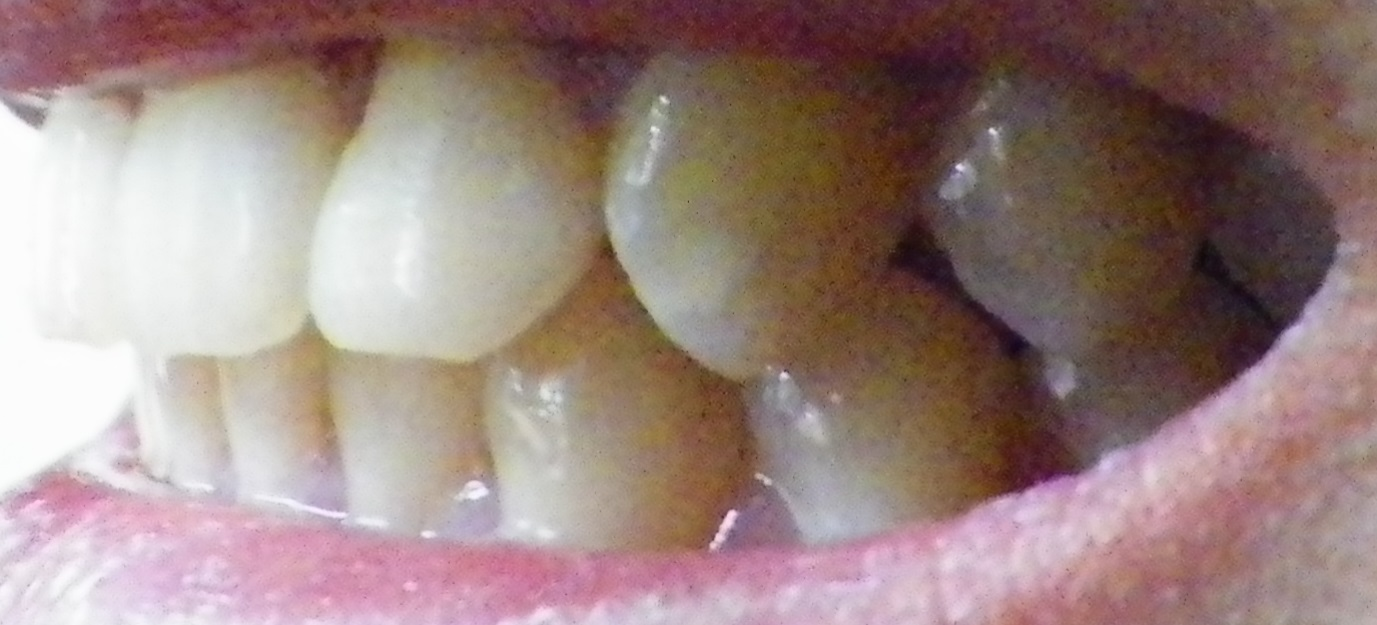boca: (29, 82, 1235, 541)
